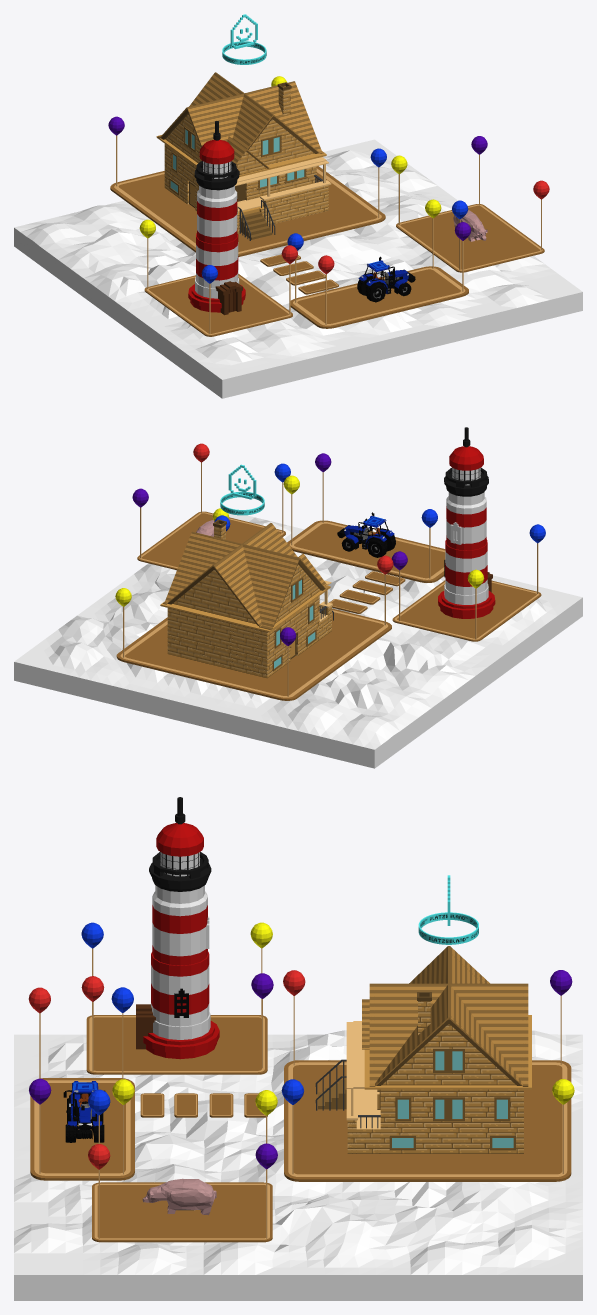
3 renders of one model, top to bottom at view 1: azimuth 30°, elevation 25°; view 2: azimuth 150°, elevation 25°; view 3: azimuth 270°, elevation 25°, orthographic. The views are drawn at different scales.
Parts seen in each view (by area): view 1: Cube.013, Cube.508, OBJRANDOM_LIGHTHOUSE, VEHICLES_TRACTOR, TYPE_PREMIUM, ANIMAL_HIPOPOTAMO; view 2: Cube.013, Cube.508, OBJRANDOM_LIGHTHOUSE, VEHICLES_TRACTOR, TYPE_PREMIUM; view 3: Cube.013, Cube.508, OBJRANDOM_LIGHTHOUSE, ANIMAL_HIPOPOTAMO, VEHICLES_TRACTOR, TYPE_PREMIUM.
Boxes of the visible parts, x1=… form: Cube.013: x1=14, y1=76, x2=582, y2=398; Cube.508: x1=156, y1=72, x2=331, y2=240; OBJRANDOM_LIGHTHOUSE: x1=188, y1=121, x2=245, y2=315; VEHICLES_TRACTOR: x1=357, y1=256, x2=415, y2=302; TYPE_PREMIUM: x1=222, y1=14, x2=266, y2=64; ANIMAL_HIPOPOTAMO: x1=453, y1=210, x2=487, y2=241; Cube.013: x1=14, y1=443, x2=582, y2=768; Cube.508: x1=160, y1=519, x2=333, y2=678; OBJRANDOM_LIGHTHOUSE: x1=438, y1=427, x2=495, y2=618; VEHICLES_TRACTOR: x1=337, y1=512, x2=395, y2=557; TYPE_PREMIUM: x1=220, y1=464, x2=264, y2=515; Cube.013: x1=14, y1=922, x2=582, y2=1300; Cube.508: x1=315, y1=946, x2=531, y2=1153; OBJRANDOM_LIGHTHOUSE: x1=136, y1=797, x2=219, y2=1059; ANIMAL_HIPOPOTAMO: x1=142, y1=1178, x2=216, y2=1215; VEHICLES_TRACTOR: x1=63, y1=1081, x2=105, y2=1142; TYPE_PREMIUM: x1=418, y1=875, x2=478, y2=944.
Size of the model in its own units: 4000 by 2443 by 4000.
Materials: 38 (3 with a texture image).
